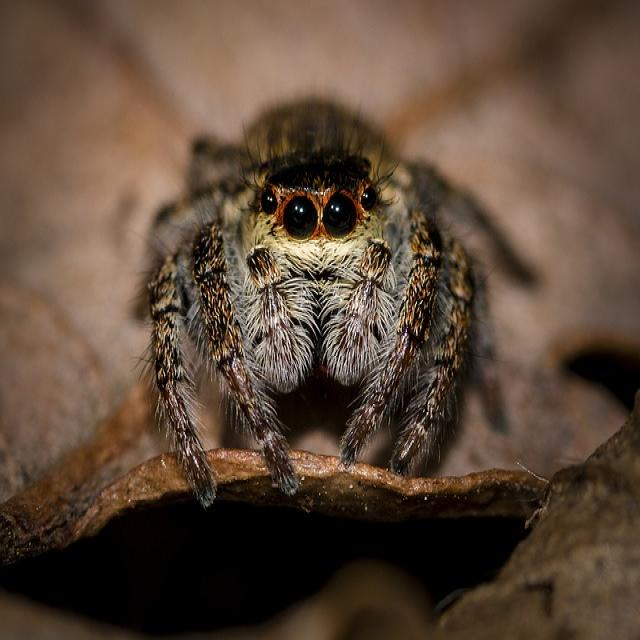spyder: (149, 100, 527, 506)
